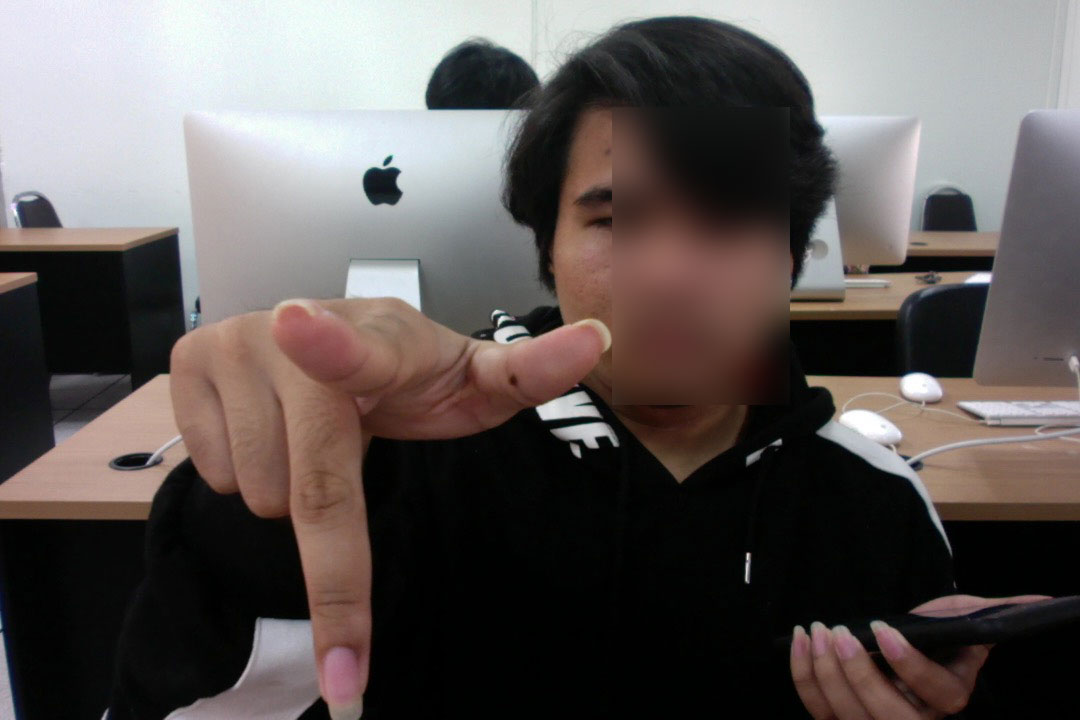por: (161, 293, 618, 719)
